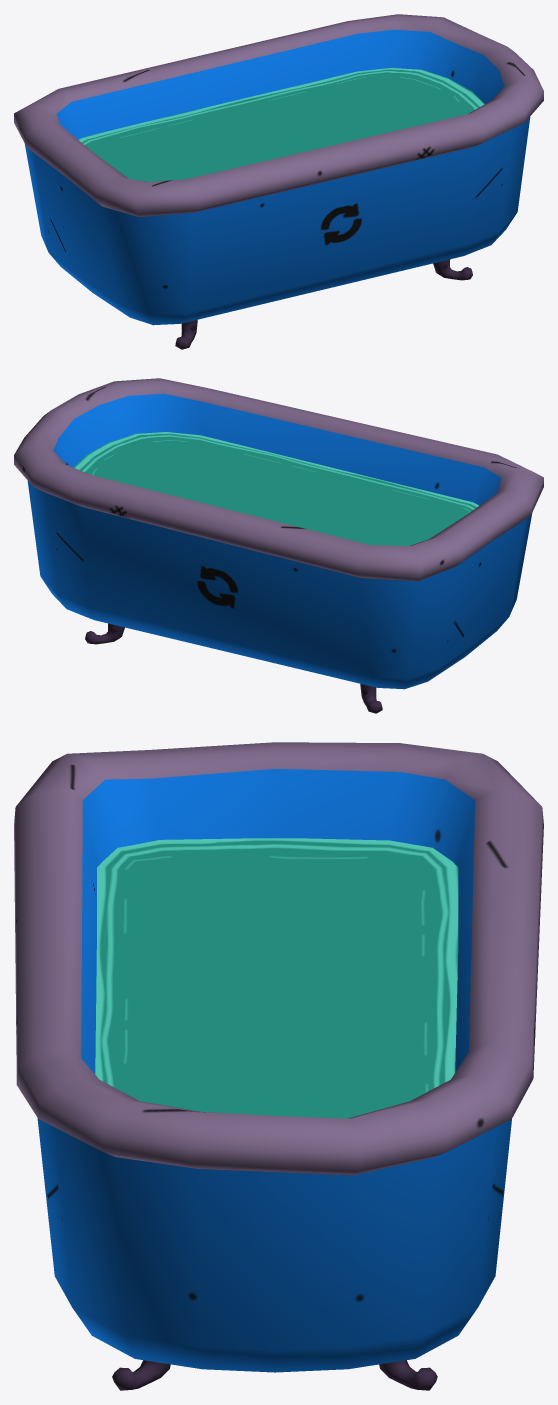
The model's file is Bath_.fbx.
3 views of the same model, one above another, from view 1: azimuth 30°, elevation 25°; view 2: azimuth 150°, elevation 25°; view 3: azimuth 270°, elevation 25° (orthographic). The views are drawn at different scales.
Visible parts, largest first — view 1: bath; view 2: bath; view 3: bath.
Boxes of the visible parts, x1=… form: bath: x1=14, y1=14, x2=543, y2=349; bath: x1=14, y1=378, x2=543, y2=713; bath: x1=14, y1=742, x2=543, y2=1390.
Bounding box in the file's own units: 2.08 × 0.8168 × 1.16.
